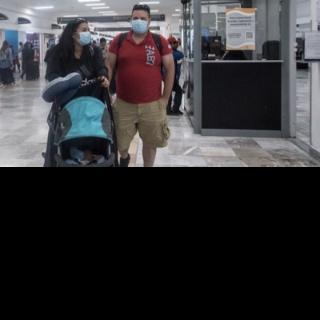with_mask: (76, 26, 92, 47), (132, 15, 148, 34)
